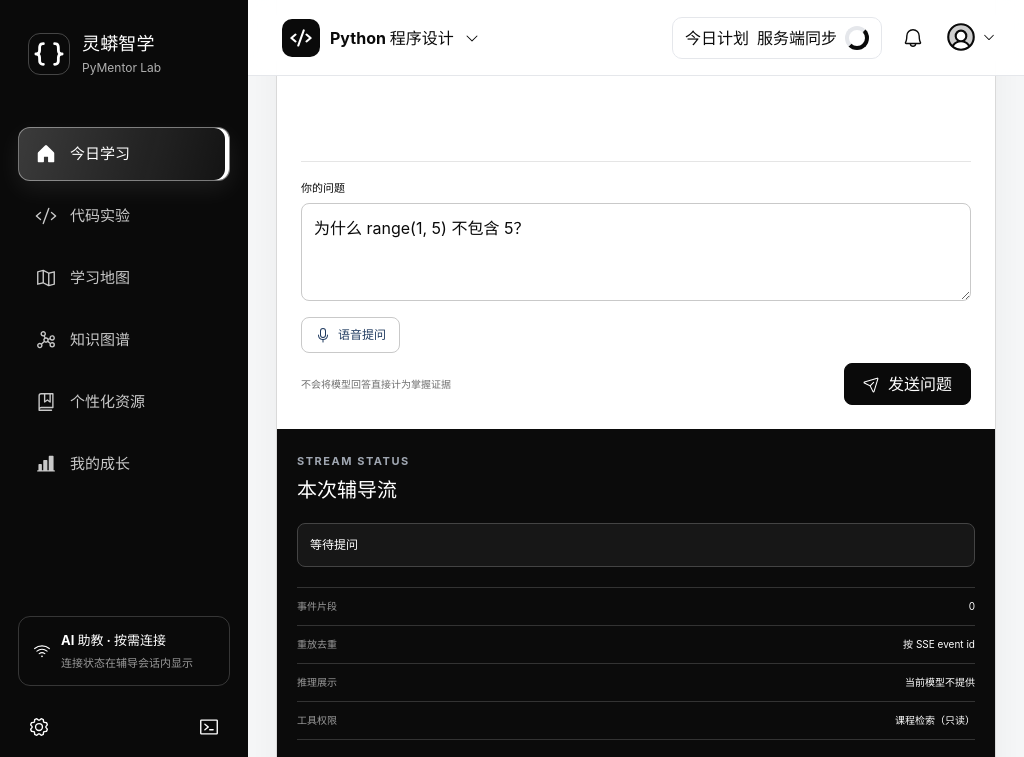
Test: tutoring stream › separates safe answer, reasoning state, and tool cards without exposing raw reasoning
This screenshot has width=1024, height=757.
(page scrolled)
Step 1. Click the button "发送问题" → {"x": 908, "y": 384}, box [844, 363, 971, 405]
(page scrolled)
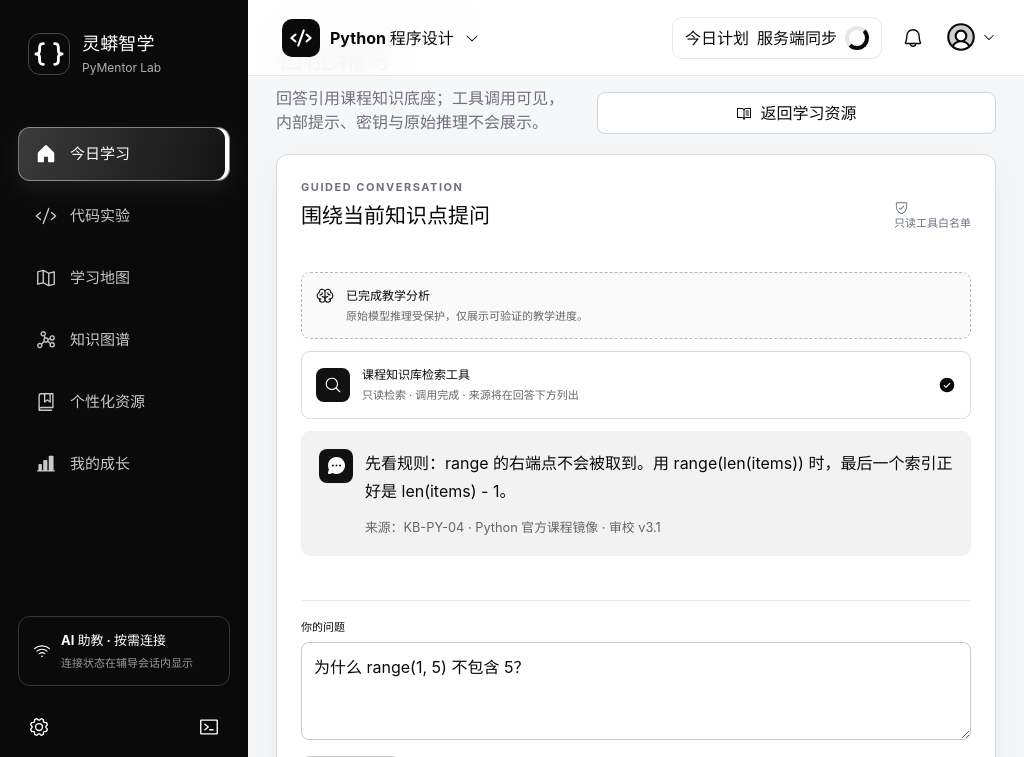
Now the element named "辅导回答" shows "range 的右端点不会被取到", box [365, 453, 952, 501]
Now the message named "分析状态" shows "已完成教学分析", box [346, 288, 430, 303]
Now the element "课程知识库检索工具" shows "调用完成", box [362, 388, 579, 402]
